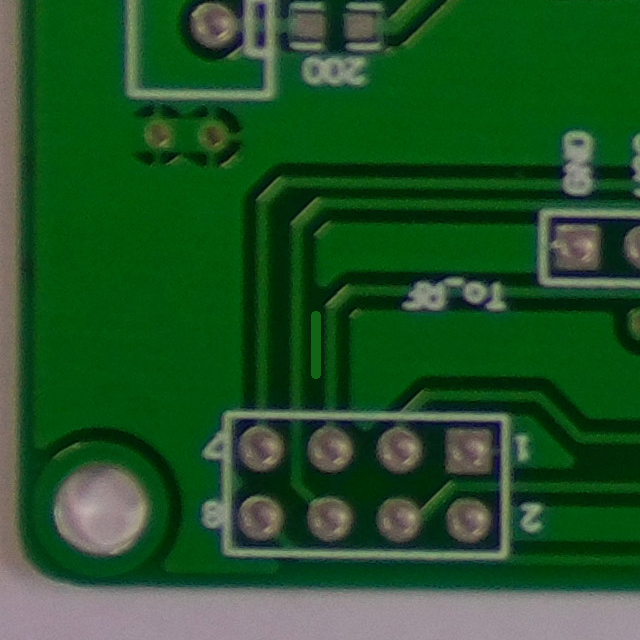spurious_copper: (292, 299, 340, 388)
